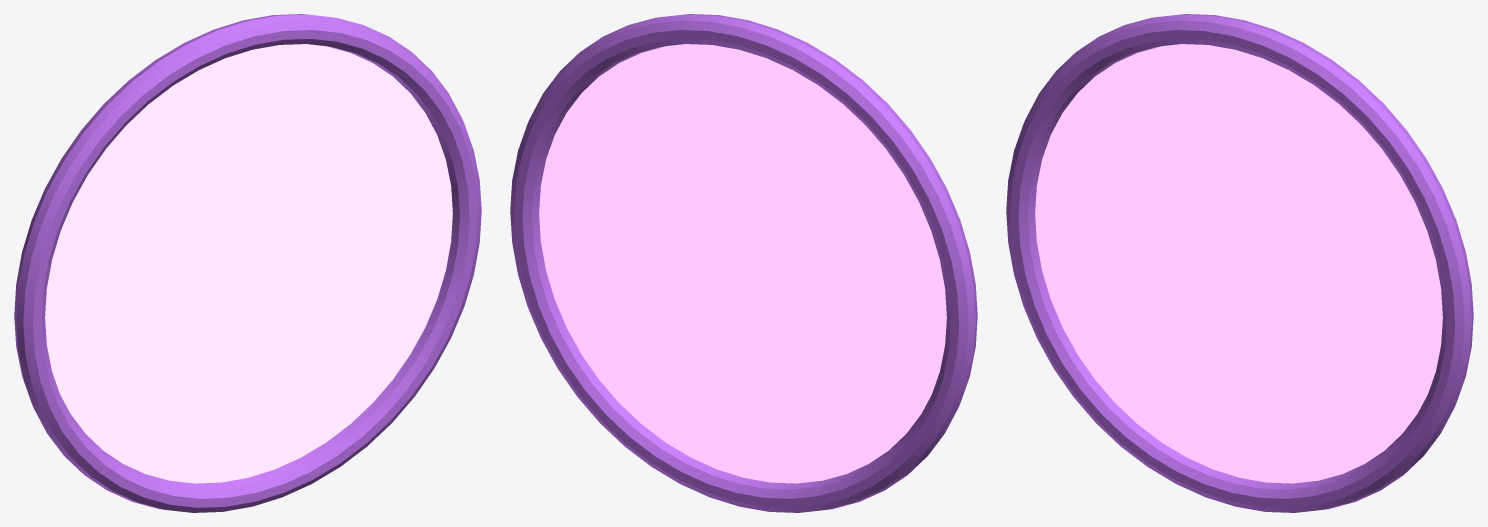
The model's file is Portal_Event.fbx.
3 renders of one model, left to right at view 1: azimuth 30°, elevation 25°; view 2: azimuth 150°, elevation 25°; view 3: azimuth 330°, elevation 25°, orthographic.
Parts seen in each view (by area): view 1: Portal_Event; view 2: Portal_Event; view 3: Portal_Event.
Part boxes in pixels (bbox=[...]): Portal_Event: bbox=[14, 14, 481, 512]; Portal_Event: bbox=[510, 14, 977, 512]; Portal_Event: bbox=[1006, 14, 1473, 512].
Size of the model in its own units: 5.52 by 5.52 by 0.3043.
